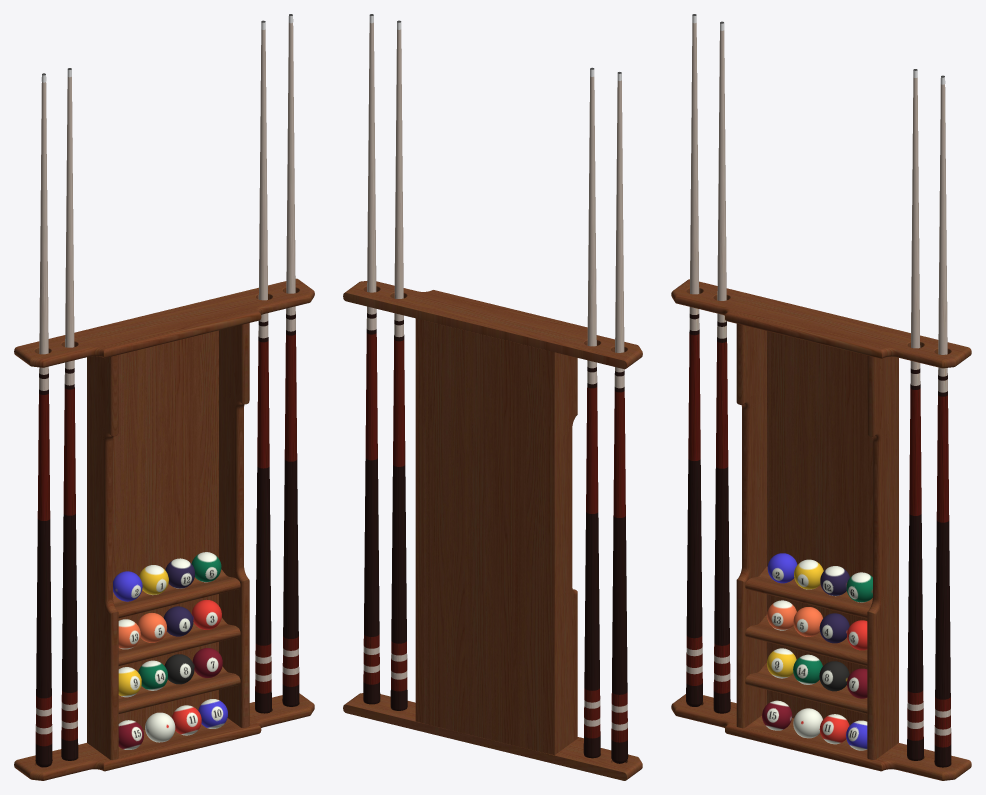
Rendered from sahne.fbx.
The picture shows the model from 3 angles, left to right: view 1: azimuth 30°, elevation 25°; view 2: azimuth 150°, elevation 25°; view 3: azimuth 330°, elevation 25°; orthographic projection.
Visible parts, largest first — view 1: Shape003, shari_4, kiy_4.003, kiy_4, kiy_4.002, kiy_4.001; view 2: Shape003, kiy_4.003, kiy_4.002, kiy_4.001, kiy_4; view 3: Shape003, shari_4, kiy_4, kiy_4.002, kiy_4.003, kiy_4.001.
Part boxes in pixels (box(x1,y1,x2,y2)): Shape003: box(14, 278, 314, 780); shari_4: box(113, 552, 227, 749); kiy_4.003: box(35, 73, 52, 767); kiy_4: box(282, 14, 299, 706); kiy_4.002: box(61, 68, 78, 760); kiy_4.001: box(255, 20, 271, 713); Shape003: box(343, 281, 642, 780); kiy_4.003: box(611, 72, 628, 763); kiy_4.002: box(583, 67, 600, 758); kiy_4.001: box(390, 20, 407, 710); kiy_4: box(363, 14, 380, 704); Shape003: box(671, 279, 971, 780); shari_4: box(762, 553, 872, 750); kiy_4: box(934, 75, 951, 767); kiy_4.002: box(713, 21, 730, 713); kiy_4.003: box(686, 14, 702, 706); kiy_4.001: box(907, 69, 923, 760).
Bounding box in the file's own units: 62.83 × 147 × 9.96.
